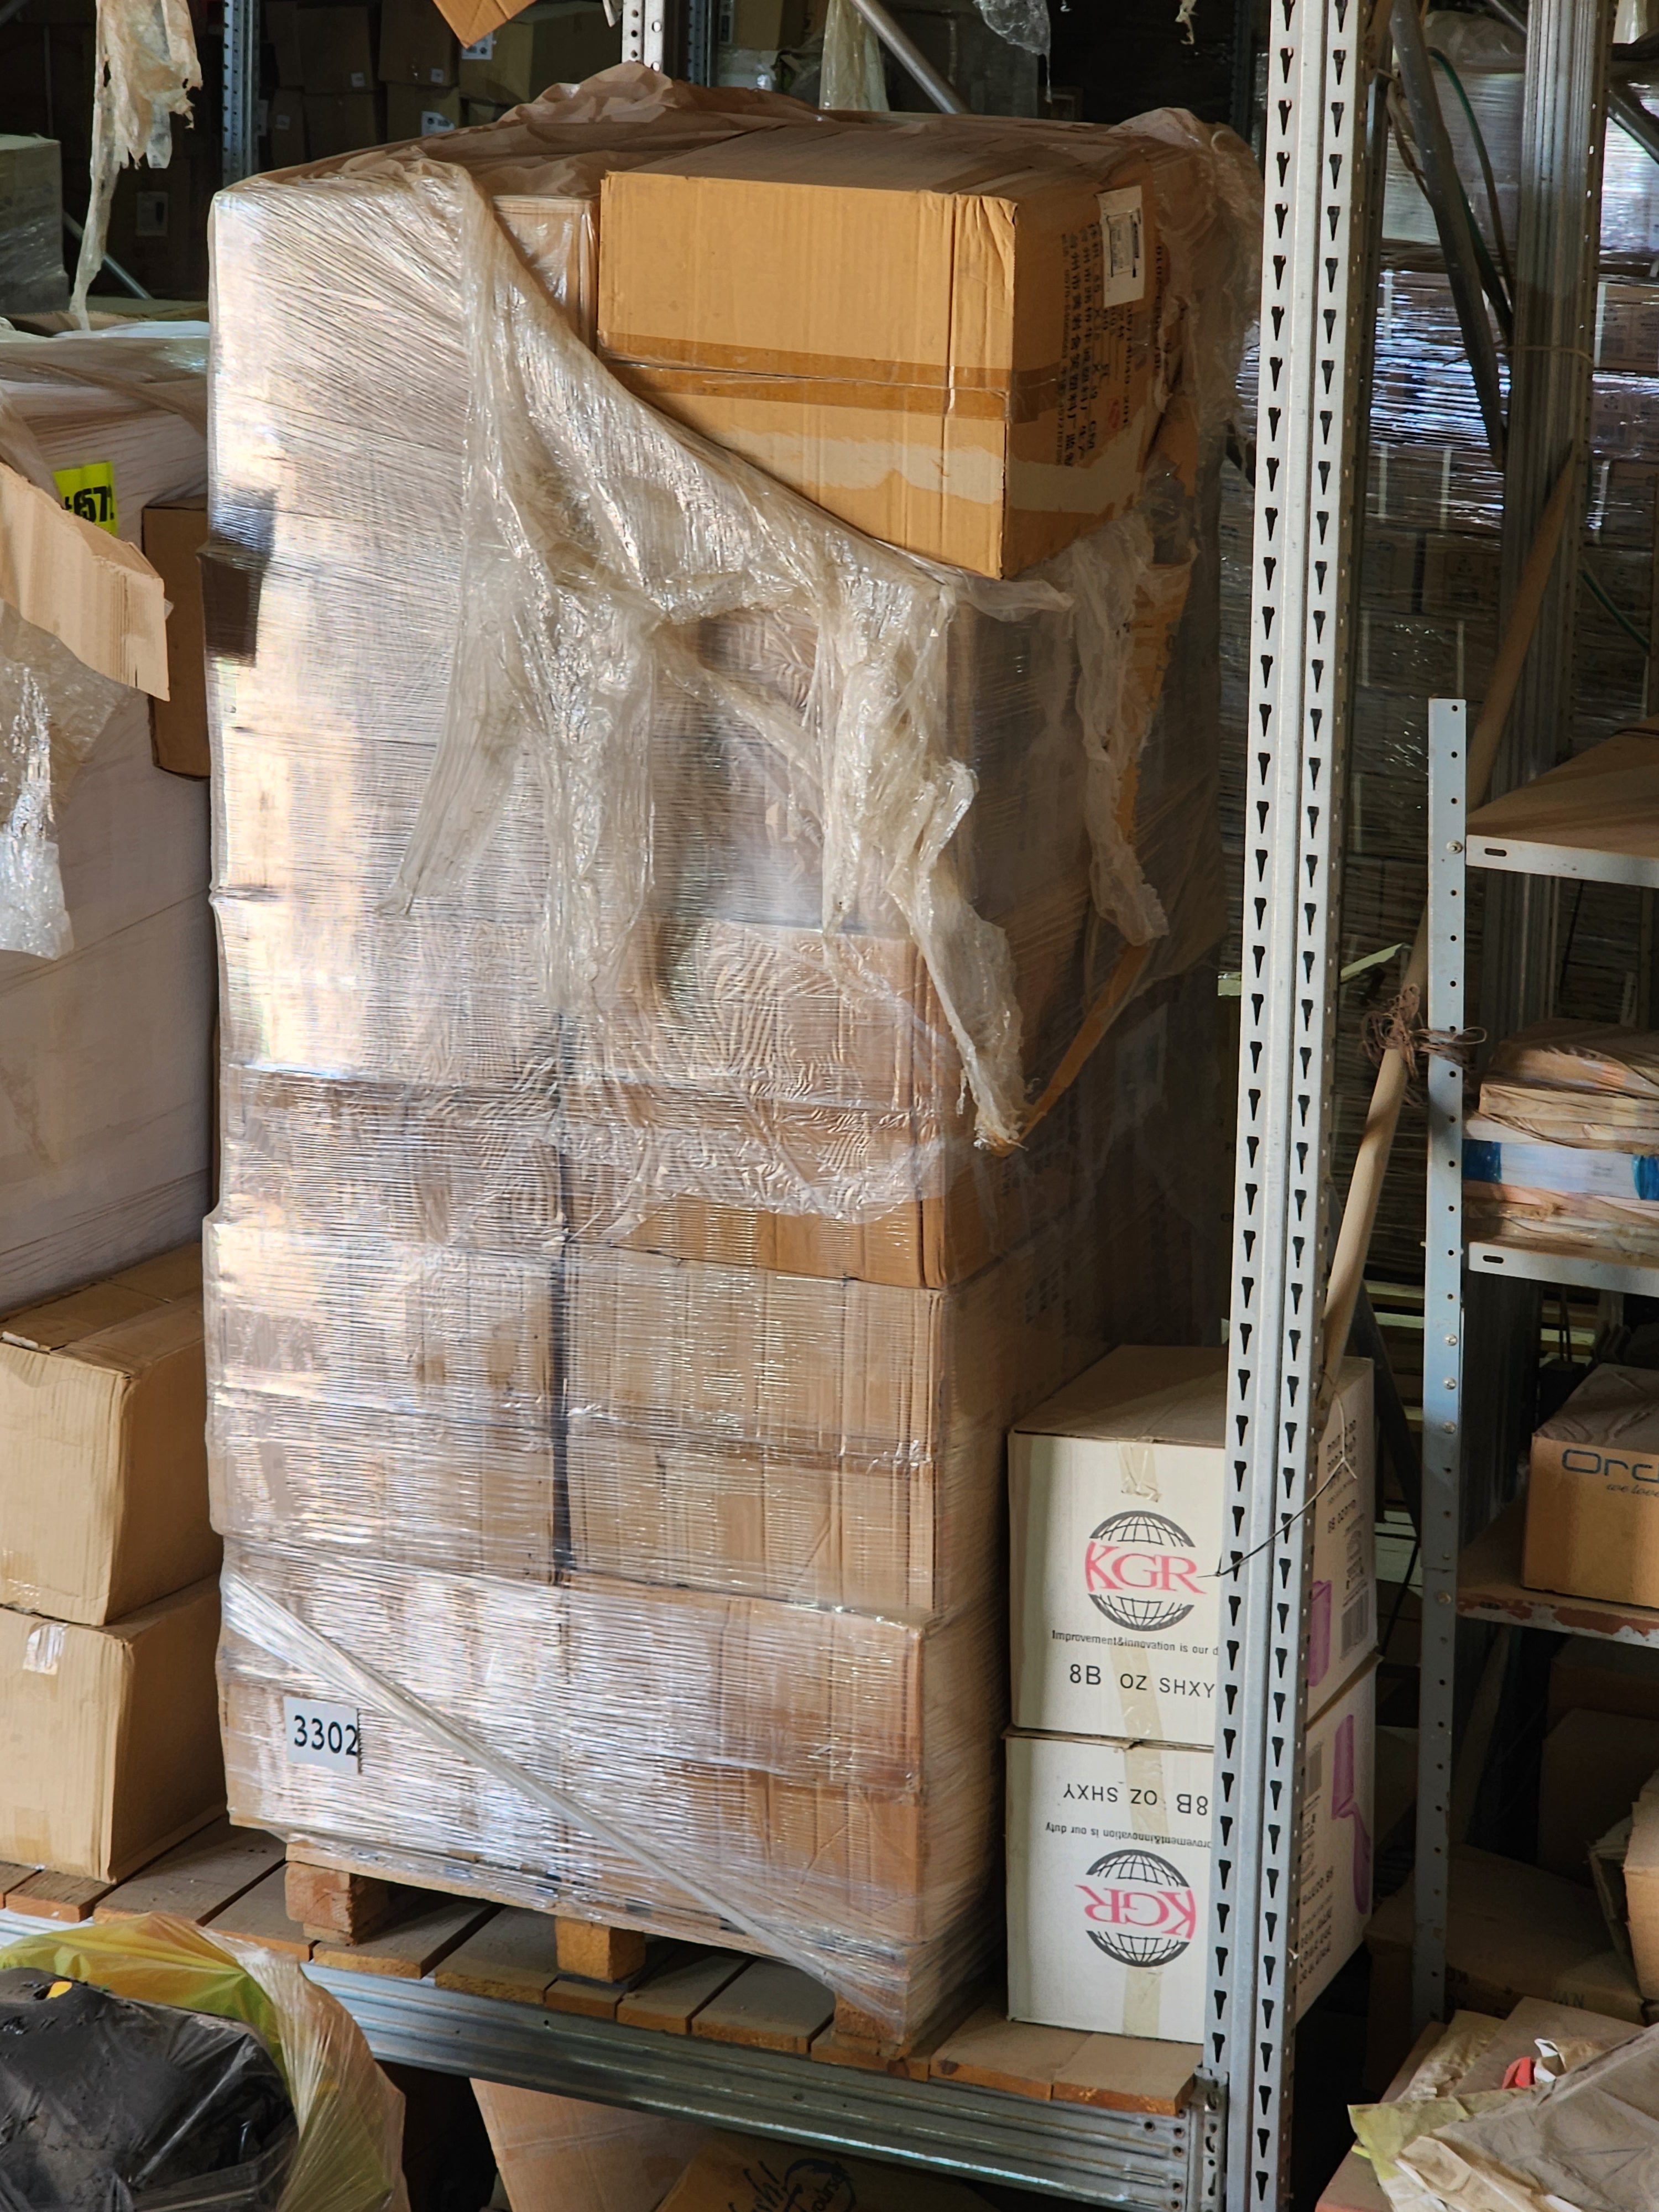box: (580, 124, 1154, 589), (486, 1200, 986, 1639), (190, 1486, 645, 1954), (178, 136, 610, 592), (939, 1665, 1443, 2033), (160, 1144, 561, 1597), (636, 1564, 997, 1973), (1016, 1392, 1371, 1733)
